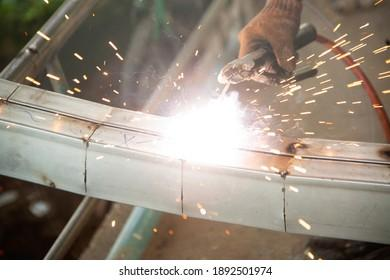gloves: (238, 1, 303, 71)
